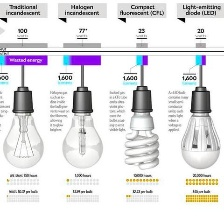light_bulb: (177, 84, 224, 171), (120, 85, 162, 172), (58, 101, 105, 169), (0, 106, 48, 170)
